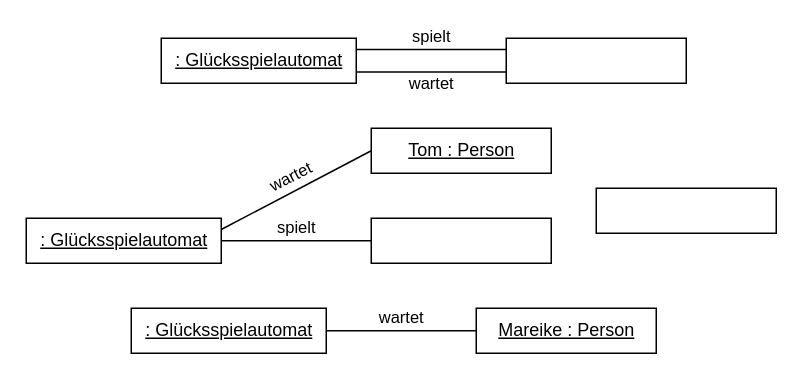
This 803x380 diagram has some shape labels left out. Here are the shapes that lost their labels. From the top down, the centre of each, then its label:
point (595, 60): Manfred : Person
point (685, 210): Hans : Person
point (460, 240): Peter : Person
